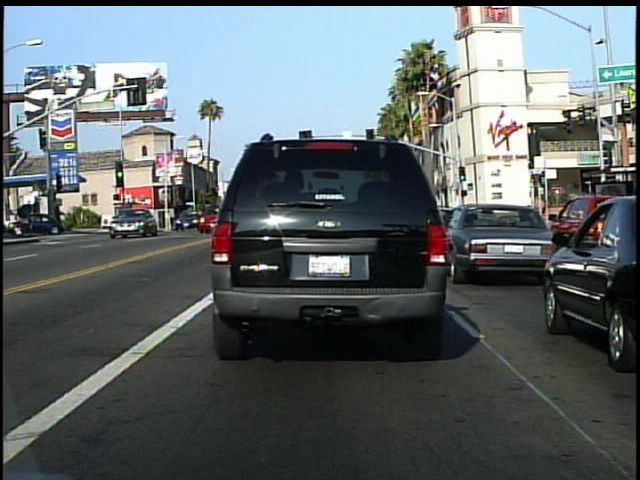person: (13, 200, 35, 239)
